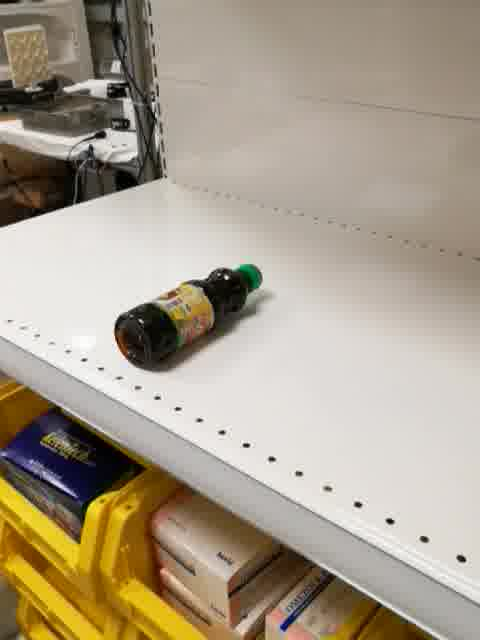cookingoil: (114, 262, 264, 372)
